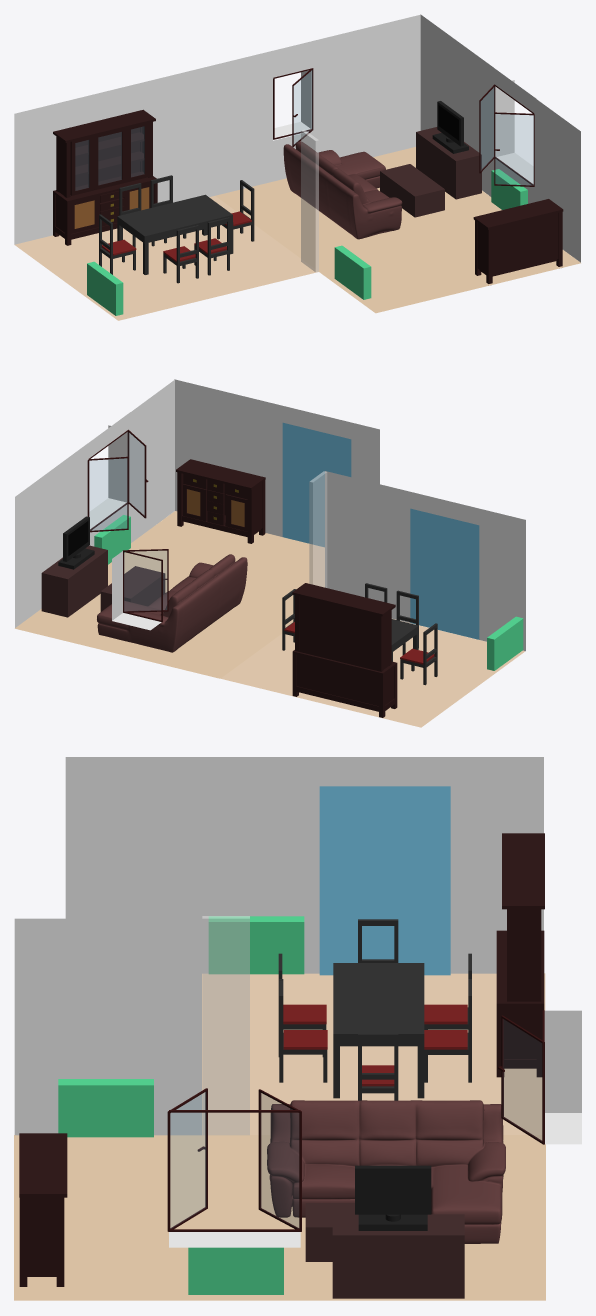
The picture shows the model from 3 angles, top to bottom: view 1: azimuth 30°, elevation 25°; view 2: azimuth 150°, elevation 25°; view 3: azimuth 270°, elevation 25°; orthographic projection. The views are drawn at different scales.
Visible parts, largest first — view 1: MurSud Gauche, SolSalon, MurSud Droite, SolSam, Vitre (×6), CanapeModel, MurOuest Gauche, MurOuest Droite, PlateauFond (×2), PlateauHaut (×3), TablePlateau, MeubleTV (+18 smaller); view 2: SolSalon, MurCuisine, MurEntree, SolSam, PorteCuisine, MurOuest Gauche, PlateauFond (×2), CanapeModel, Vitre (×3), PorteSejourEntree, MurOuest Droite, MeubleTV (+13 smaller); view 3: MurEst, SolSalon, MurSejourCuisine, SolSam, PorteFenSalon, CanapeModel, Vitre (×3), MurPanSejorSalon, MeubleTV, PlateauHaut (×3), TablePlateau, RadiateurSam (+12 smaller).
Boxes of the visible parts, x1,y1,x2,y2 form: MurSud Gauche: (14,50,272,244); SolSalon: (215,147,580,313); MurSud Droite: (311,14,420,157); SolSam: (14,196,318,320); Vitre (×6): (75,70,533,190); CanapeModel: (283,141,402,239); MurOuest Gauche: (420,14,493,195); MurOuest Droite: (534,97,580,262); PlateauFond (×2): (75,127,558,274); PlateauHaut (×3): (53,109,563,229); TablePlateau: (117,194,232,243); MeubleTV: (416,127,481,199); SolSalon: (15,511,324,678); MurCuisine: (325,471,525,651); MurEntree: (174,379,379,536); SolSam: (221,619,524,727); PorteCuisine: (410,508,479,639); MurOuest Gauche: (15,446,87,627); PlateauFond (×2): (297,596,382,706); CanapeModel: (97,554,247,652); Vitre (×3): (89,433,166,611); PorteSejourEntree: (282,422,351,547); MurOuest Droite: (128,380,174,542); MeubleTV: (41,545,107,617); MurEst: (65,757,543,973); SolSalon: (14,1135,545,1300); MurSejourCuisine: (14,918,201,1135); SolSam: (202,973,545,1134); PorteFenSalon: (319,786,450,975); CanapeModel: (267,1100,505,1243); Vitre (×3): (170,1019,541,1228); MurPanSejorSalon: (202,916,249,1135); MeubleTV: (332,1214,464,1298); PlateauHaut (×3): (19,833,544,1197); TablePlateau: (333,963,424,1046); RadiateurSam: (208,916,304,974).
Bounding box in the file's own units: 8.51 × 2.53 × 5.94.
